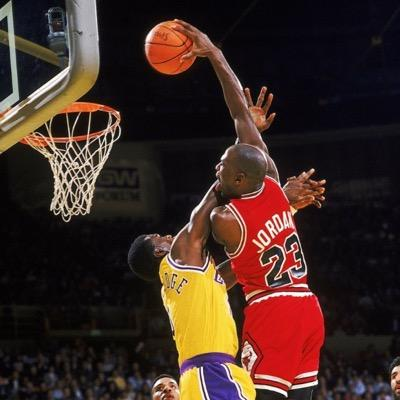ball: (142, 11, 200, 86)
basket: (16, 88, 128, 225)
block: (117, 200, 246, 398)
dunk: (142, 9, 328, 397)
